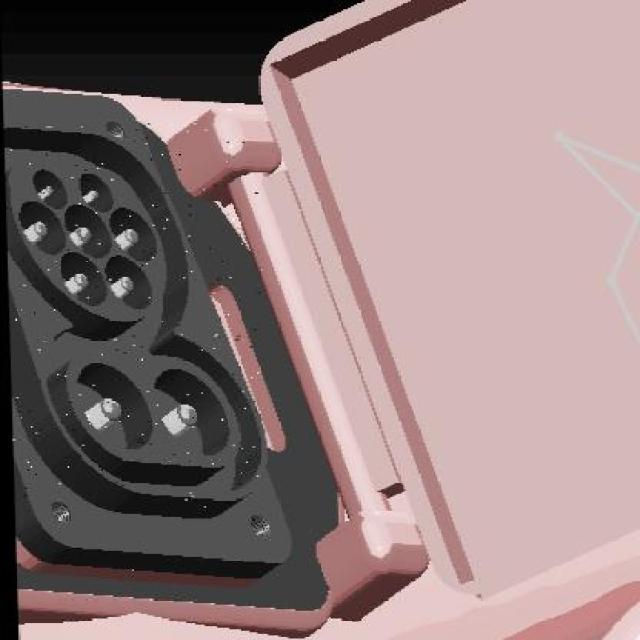CCS2: (0, 130, 306, 567)
